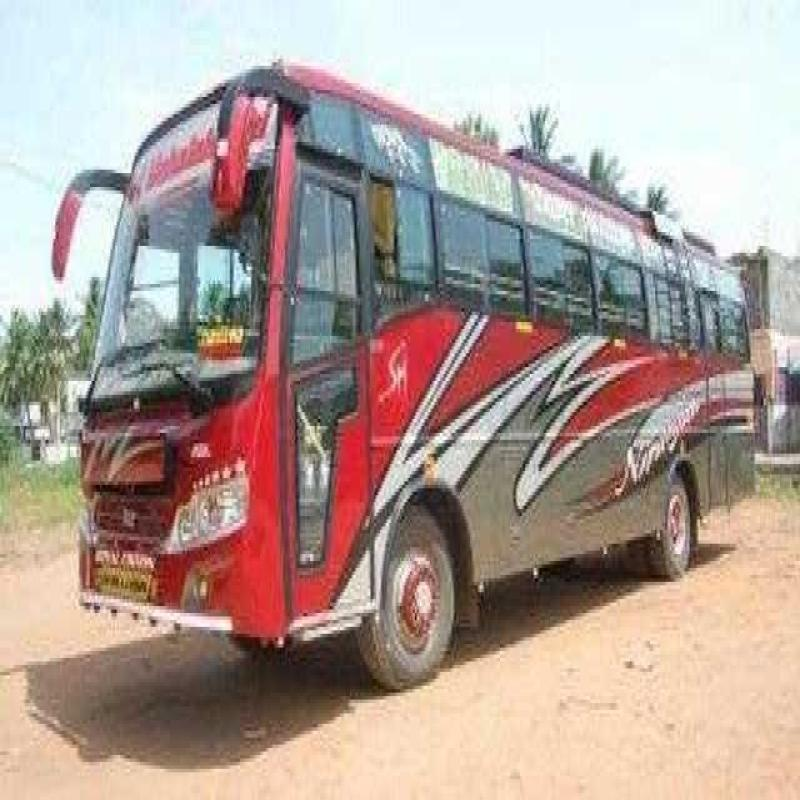bus: (66, 54, 756, 664)
